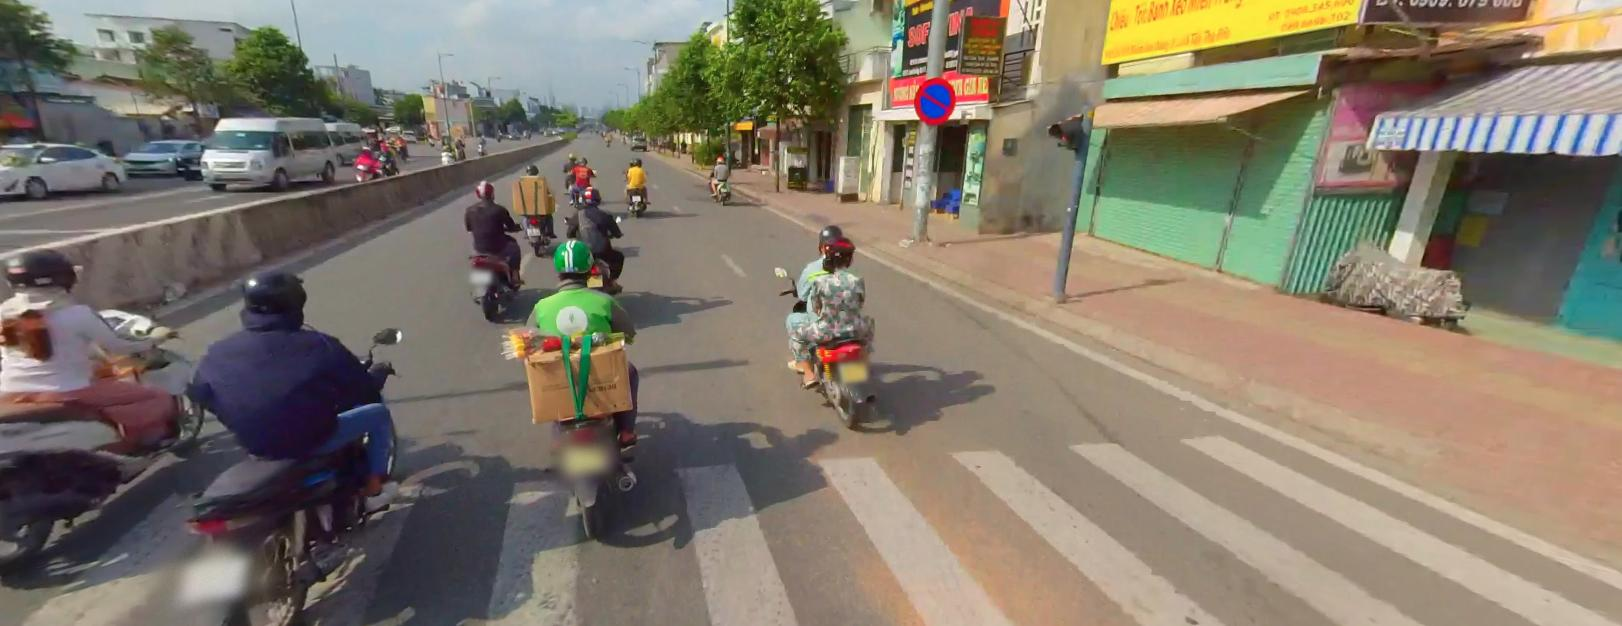Cam dung va do: (912, 76, 955, 124)
